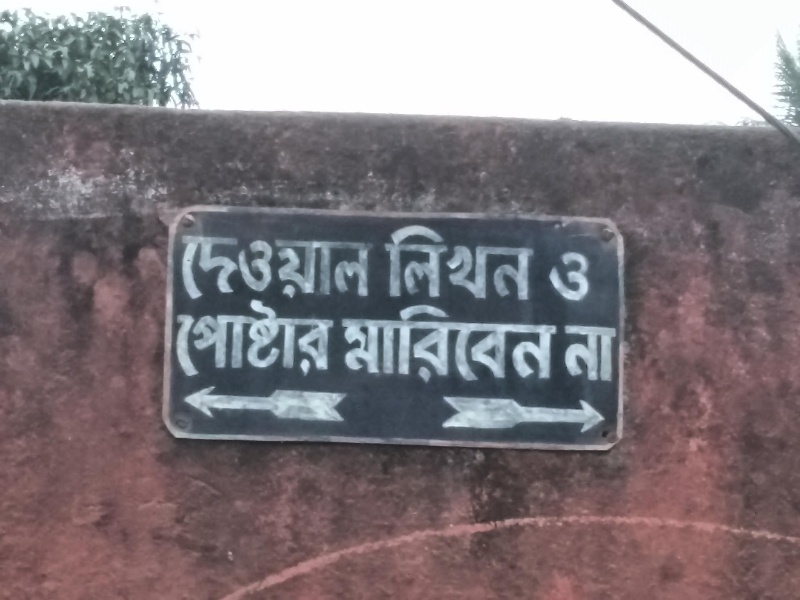text: (545, 303, 561, 390), (337, 303, 352, 390), (353, 303, 368, 390), (369, 303, 384, 390), (385, 303, 400, 390), (401, 303, 416, 390), (417, 303, 432, 390), (433, 303, 448, 390), (449, 303, 464, 390), (465, 303, 480, 390), (481, 303, 496, 390), (497, 303, 512, 390), (513, 303, 528, 390), (529, 303, 544, 390), (177, 298, 192, 384), (193, 298, 208, 384), (209, 298, 224, 384), (225, 298, 240, 384), (241, 298, 256, 384), (257, 298, 272, 384), (273, 298, 288, 384), (289, 298, 304, 384), (305, 298, 320, 384), (321, 298, 336, 384), (385, 221, 400, 301), (401, 221, 416, 301), (417, 221, 432, 301), (433, 221, 448, 301), (449, 221, 464, 301), (465, 221, 480, 301), (481, 221, 496, 301), (497, 221, 512, 301), (513, 221, 528, 301), (193, 233, 208, 302), (209, 233, 224, 302), (225, 233, 240, 302), (241, 233, 256, 302), (257, 233, 272, 302), (273, 233, 288, 302), (289, 233, 304, 302), (305, 233, 320, 302), (321, 233, 336, 302), (337, 233, 352, 302), (353, 233, 368, 302), (577, 318, 592, 381), (593, 318, 608, 381), (563, 318, 576, 381), (561, 249, 576, 302), (577, 249, 592, 302), (609, 318, 620, 381), (183, 233, 192, 302), (549, 249, 560, 302), (529, 221, 536, 301), (369, 233, 375, 302), (337, 298, 340, 384), (334, 303, 336, 390), (174, 298, 176, 384), (593, 249, 595, 302), (383, 221, 384, 301)
